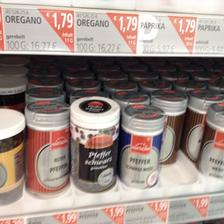Gewuerze: (67, 96, 119, 192), (23, 98, 68, 198), (121, 103, 163, 189)
